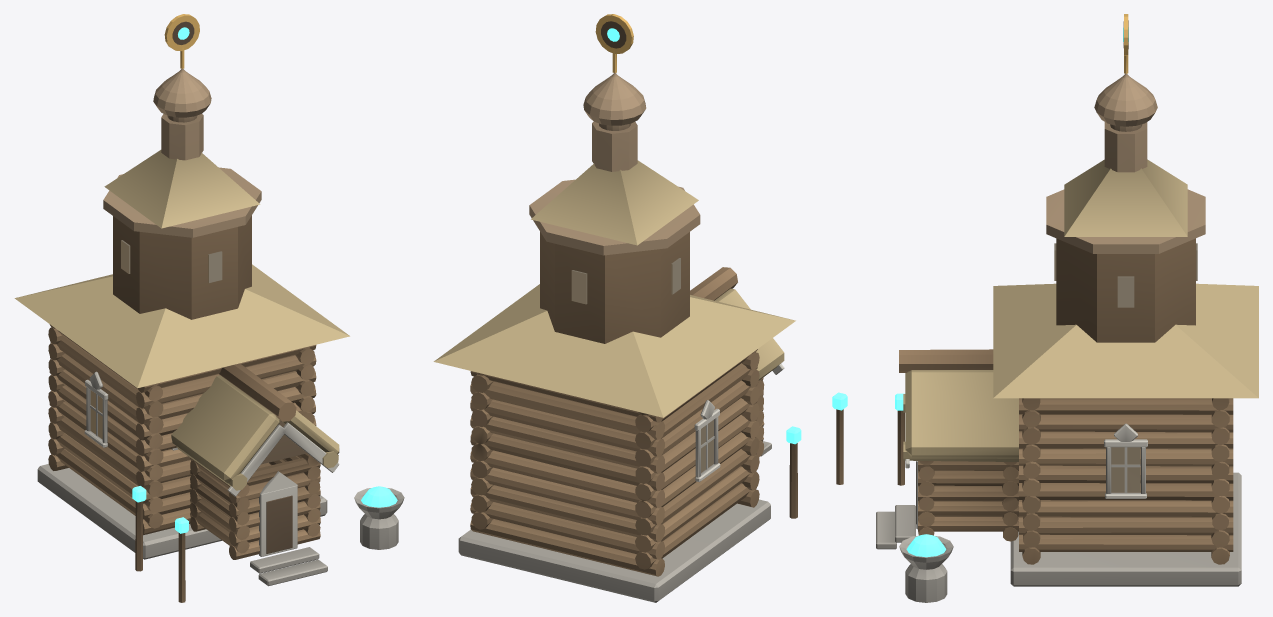
Rendered from bld_church.glb.
3 views of the same model, side by side, from view 1: azimuth 30°, elevation 25°; view 2: azimuth 150°, elevation 25°; view 3: azimuth 270°, elevation 25° (orthographic). The views are drawn at different scales.
Parts seen in each view (by area): view 1: church; view 2: church; view 3: church.
Part boxes in pixels (x1,y1,x2,y2): church: (14, 14, 404, 602); church: (433, 14, 847, 602); church: (876, 14, 1258, 602).
Size of the model in its own units: 1.4 by 2.75 by 1.82.
